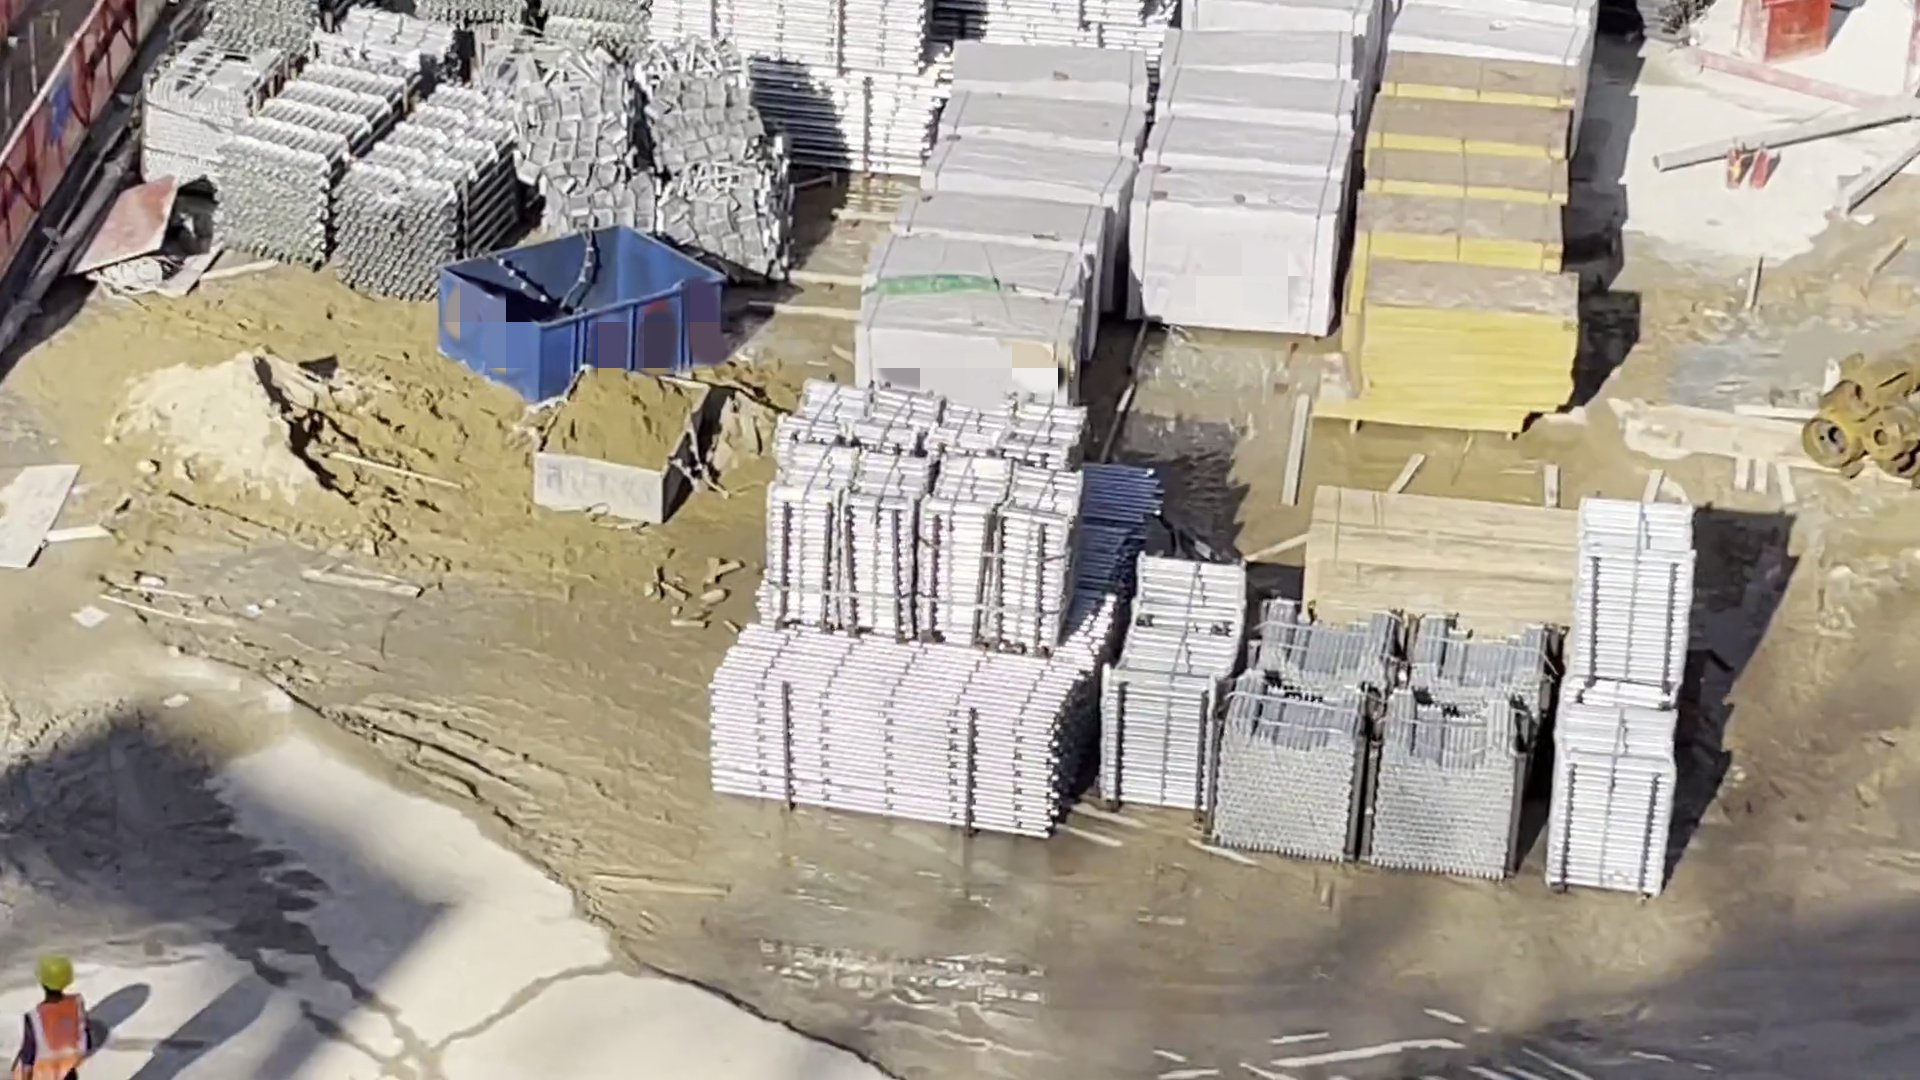board: (1343, 249, 1591, 432), (1344, 194, 1573, 267), (1361, 101, 1568, 167), (1393, 61, 1586, 129), (1371, 151, 1549, 206)
fence: (9, 4, 161, 279)
helmet: (38, 951, 78, 992)
hopper: (436, 244, 741, 386)
person: (16, 941, 118, 1075)
scaffold: (706, 601, 1048, 809), (781, 376, 1084, 586), (93, 1, 265, 186), (1388, 686, 1531, 877), (1249, 612, 1363, 846), (1113, 544, 1216, 801), (1559, 702, 1688, 899), (363, 81, 481, 274), (765, 1, 928, 139), (1584, 501, 1689, 676), (238, 56, 304, 301), (311, 1, 495, 61), (554, 9, 801, 34)
vest: (28, 1004, 93, 1080)
wood: (1311, 481, 1549, 627)
